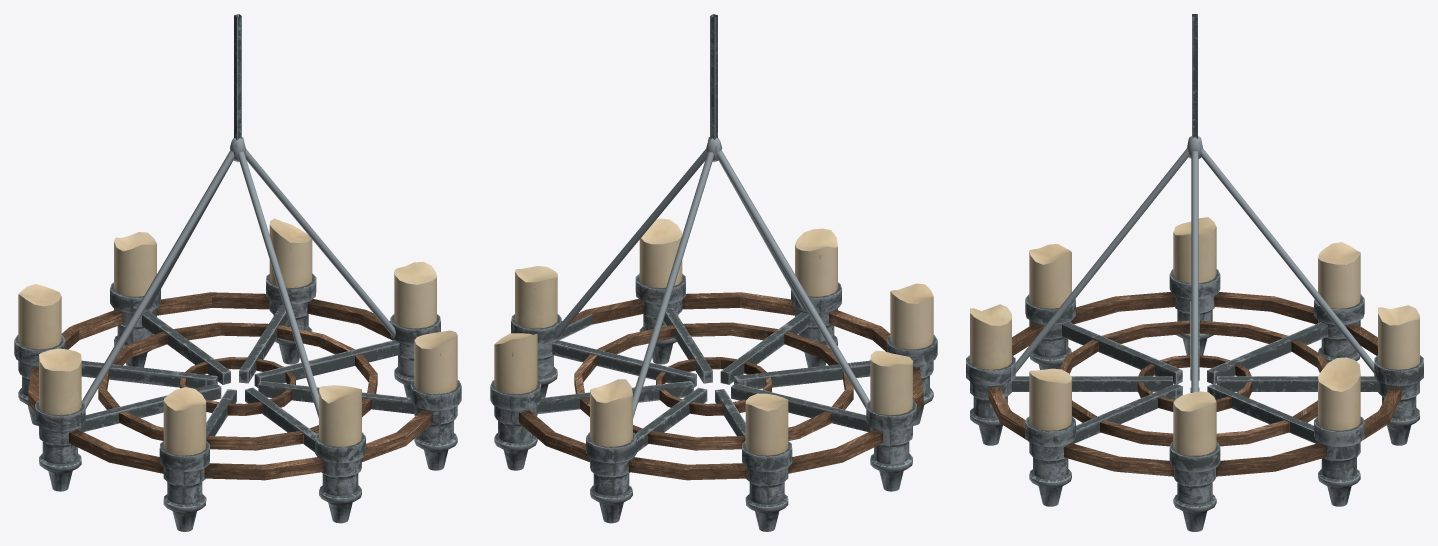
3 renders of one model, left to right at view 1: azimuth 30°, elevation 25°; view 2: azimuth 150°, elevation 25°; view 3: azimuth 270°, elevation 25°, orthographic.
Parts seen in each view (by area): view 1: polySurface31, pCube13; view 2: polySurface31, pCube13; view 3: polySurface31, pCube13.
Part boxes in pixels (<box>): polySurface31: <box>14,137,461,531</box>; pCube13: <box>234,14,241,140</box>; polySurface31: <box>490,137,937,531</box>; pCube13: <box>710,14,717,139</box>; polySurface31: <box>966,136,1423,531</box>; pCube13: <box>1192,14,1197,138</box>.
Bounding box in the file's own units: 18.37 × 18.99 × 18.37.
Materials: 1 (1 with a texture image).
